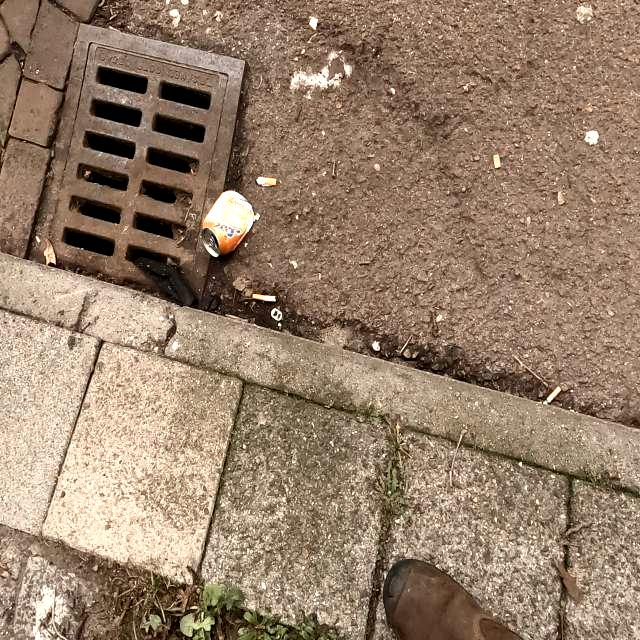Metal: (198, 194, 255, 258)
